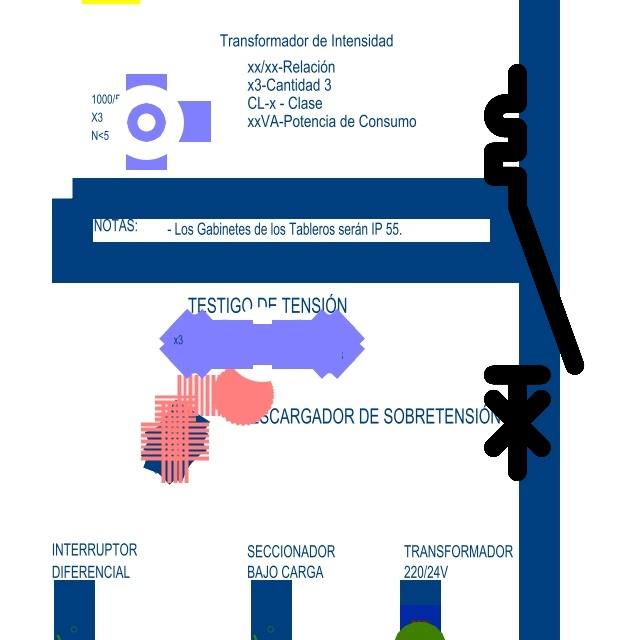interruptor_termomagnetico: (483, 63, 585, 481)
